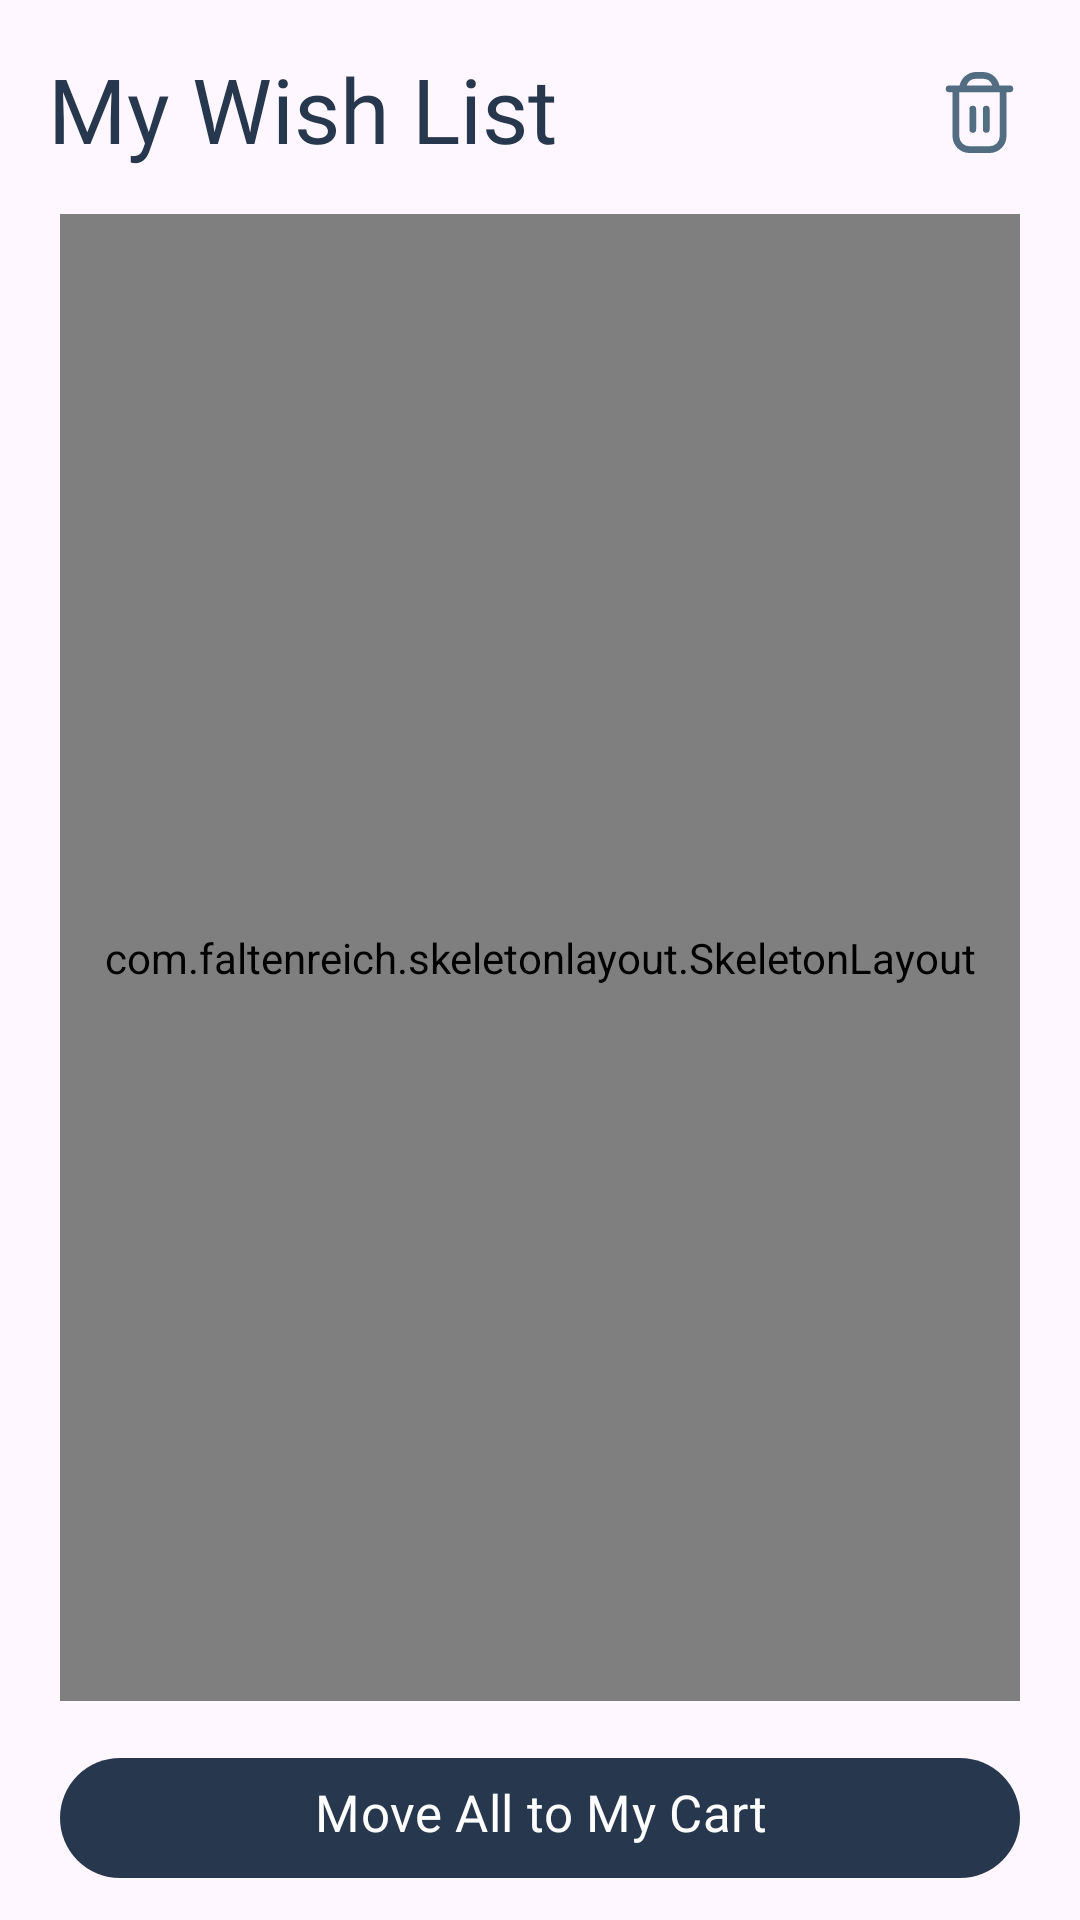

Icon click points for this 1080 × 1920 phone screenshot, format point (x, y):
trash: point (979, 112)
